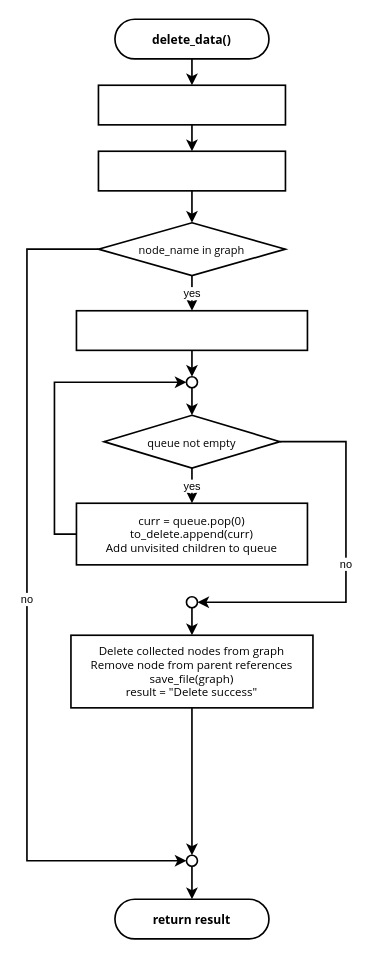
The diagram is 375 pixels wide and 959 high, and some of its shapes have lost their labels. Here are the shapes that lost their labels. From the top down, the box of each, then its label:
(97, 84, 286, 125): result = "Node not found"
(97, 150, 286, 191): node_name = input("node")
(75, 309, 308, 351): to_delete = [], queue = [node_name]
